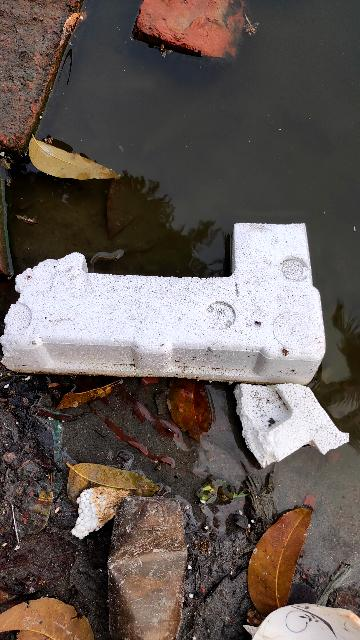cocksheet: (1, 257, 320, 384)
